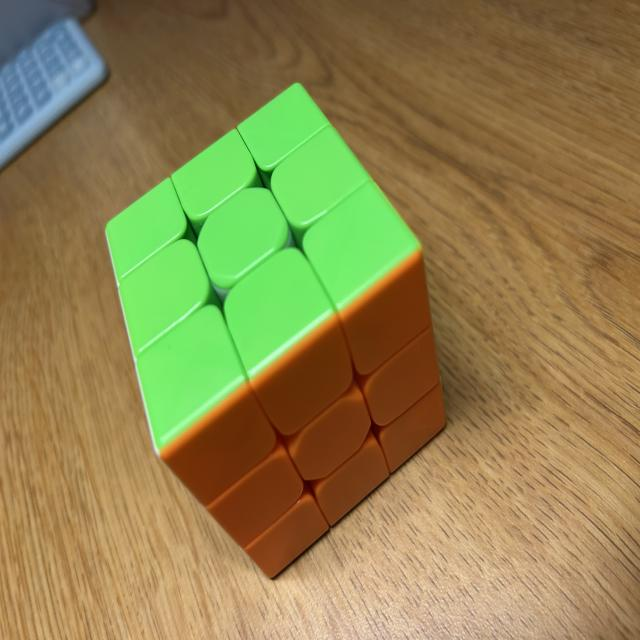Rubiks Cube: (103, 78, 446, 579)
